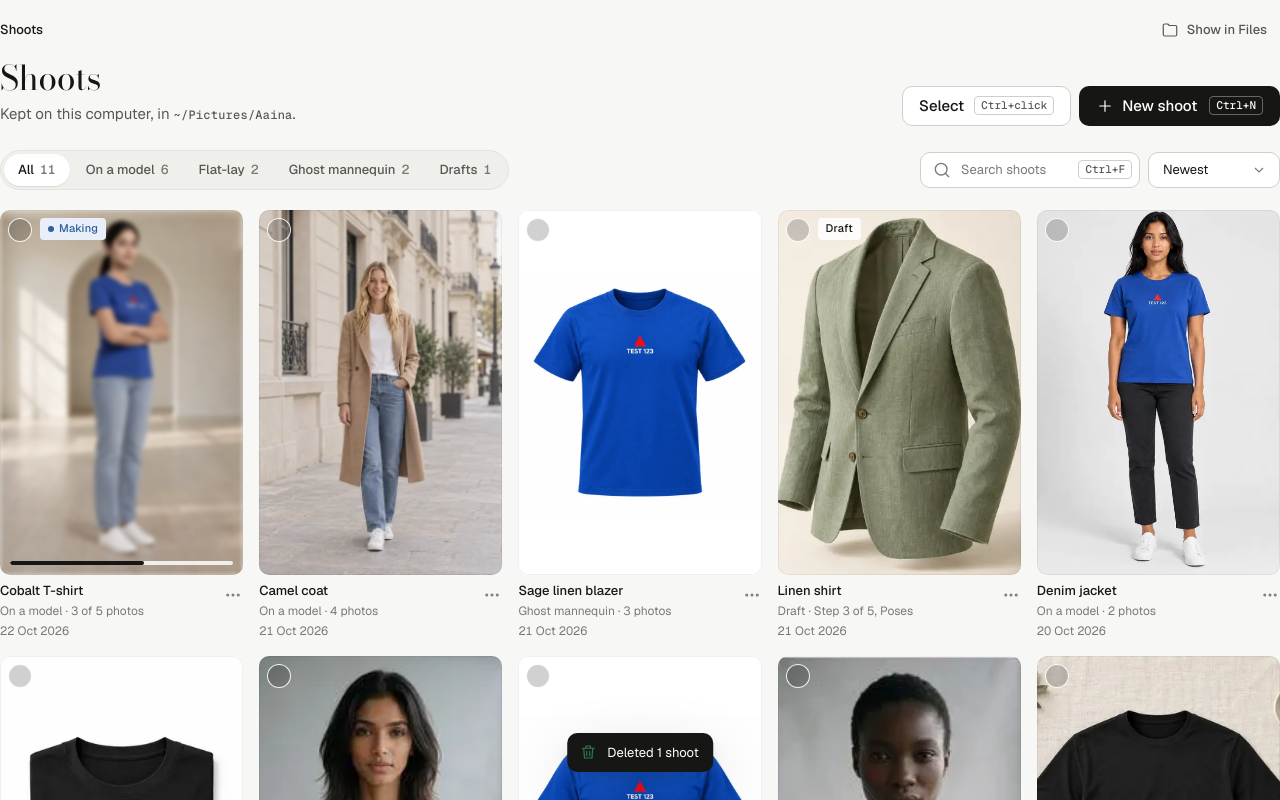
Test: Shoots › selecting several and pressing Delete asks once for all of them
The image size is (1280, 800).
Expected: the text "Cobalt T-shirt" is shown, [0, 582, 83, 599]
Click the button "Select Ctrl+click": (987, 106) [902, 86, 1071, 126]
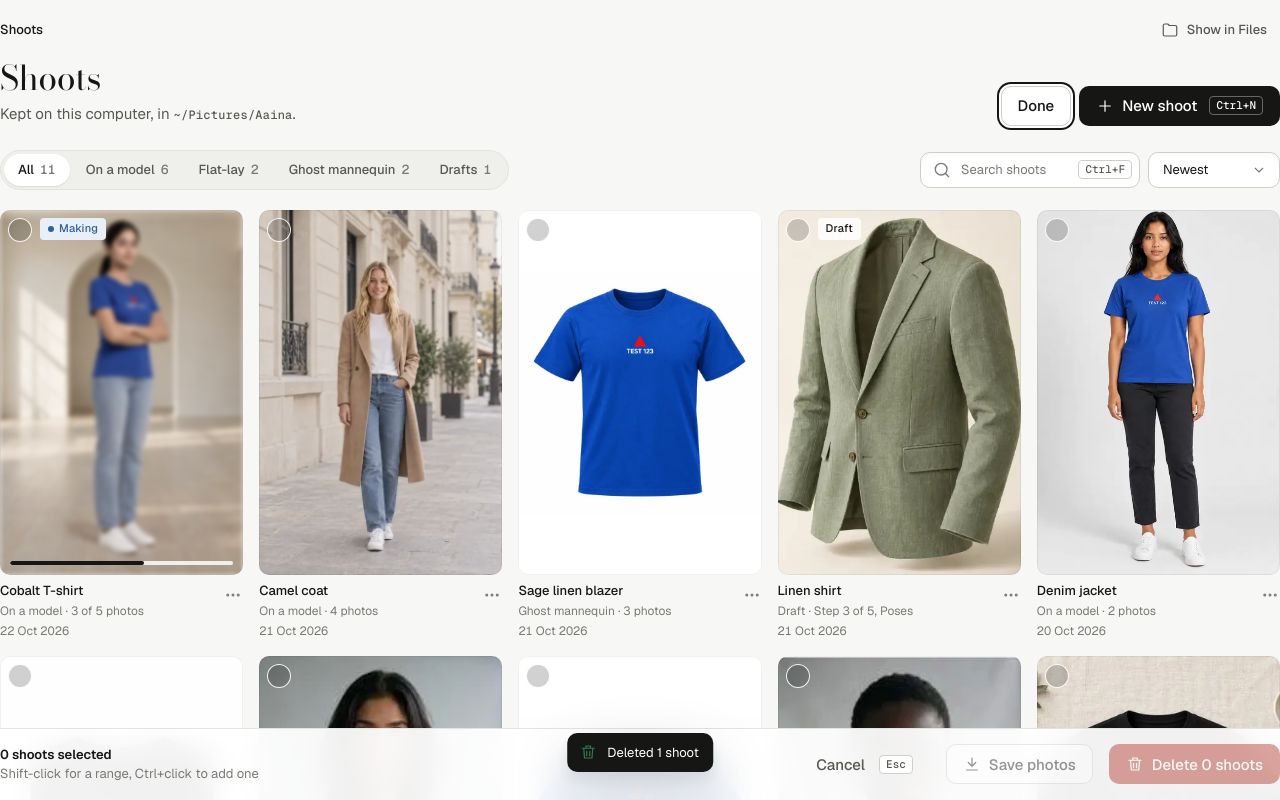
Click the button named "Select" next to "Making": (20, 230) [8, 218, 32, 242]
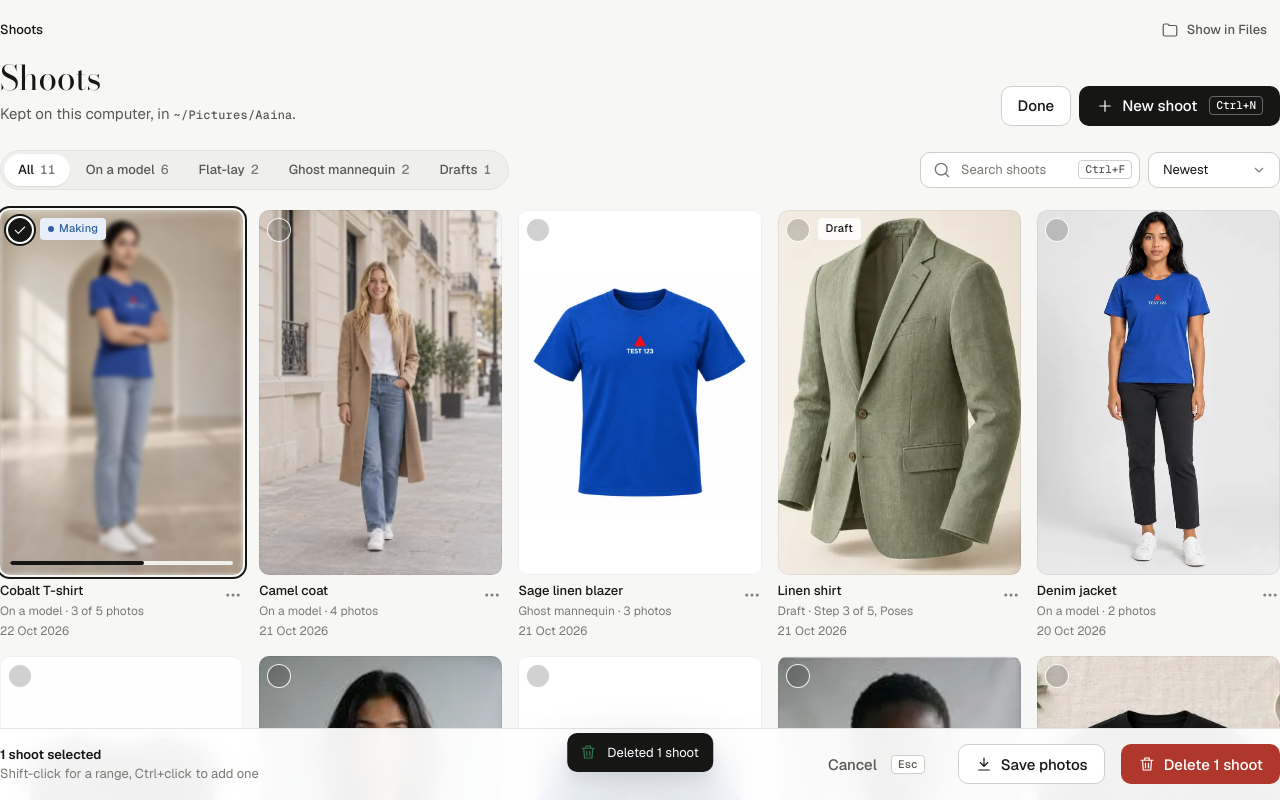
Click the 1st button named "Select": (279, 230) [267, 218, 291, 242]
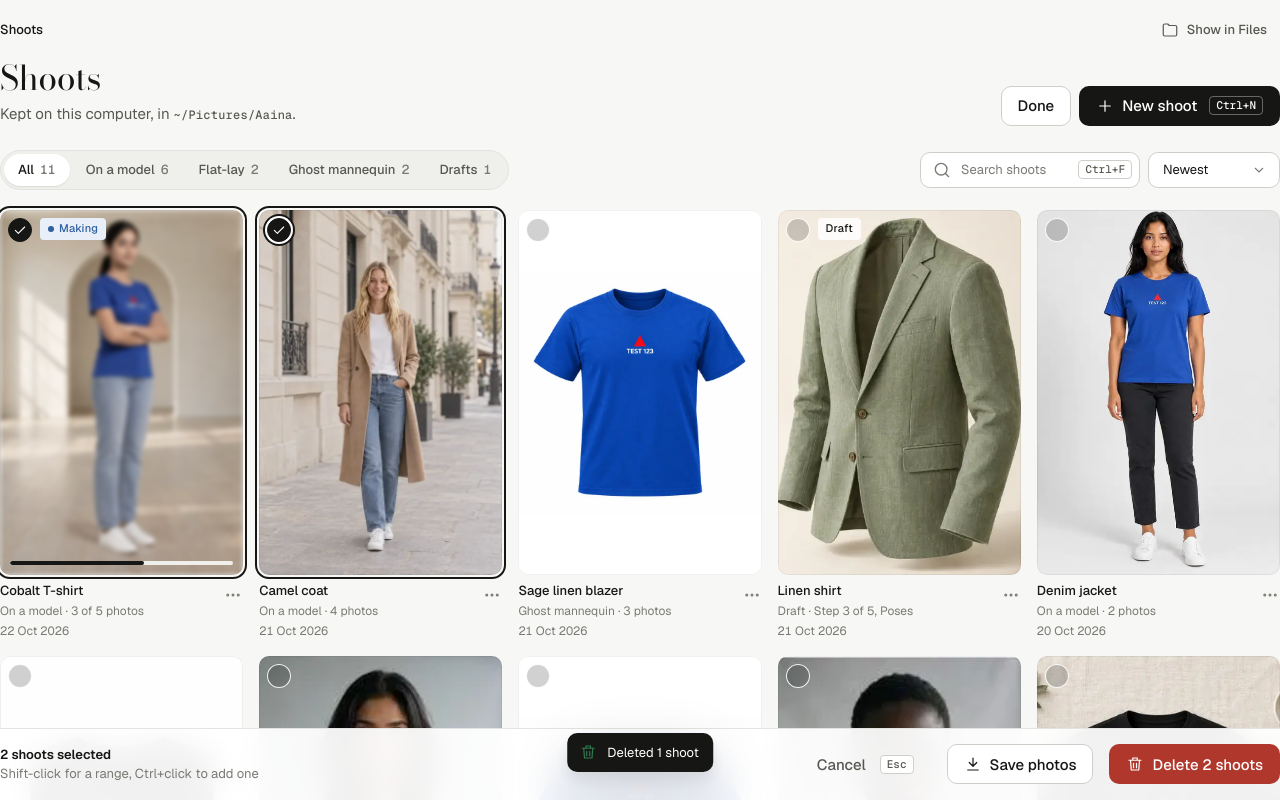
Expected: the text "2 shoots selected" is shown, [0, 746, 111, 763]
Click the button "Delete 2 shoots": (1195, 764) [1110, 744, 1279, 784]
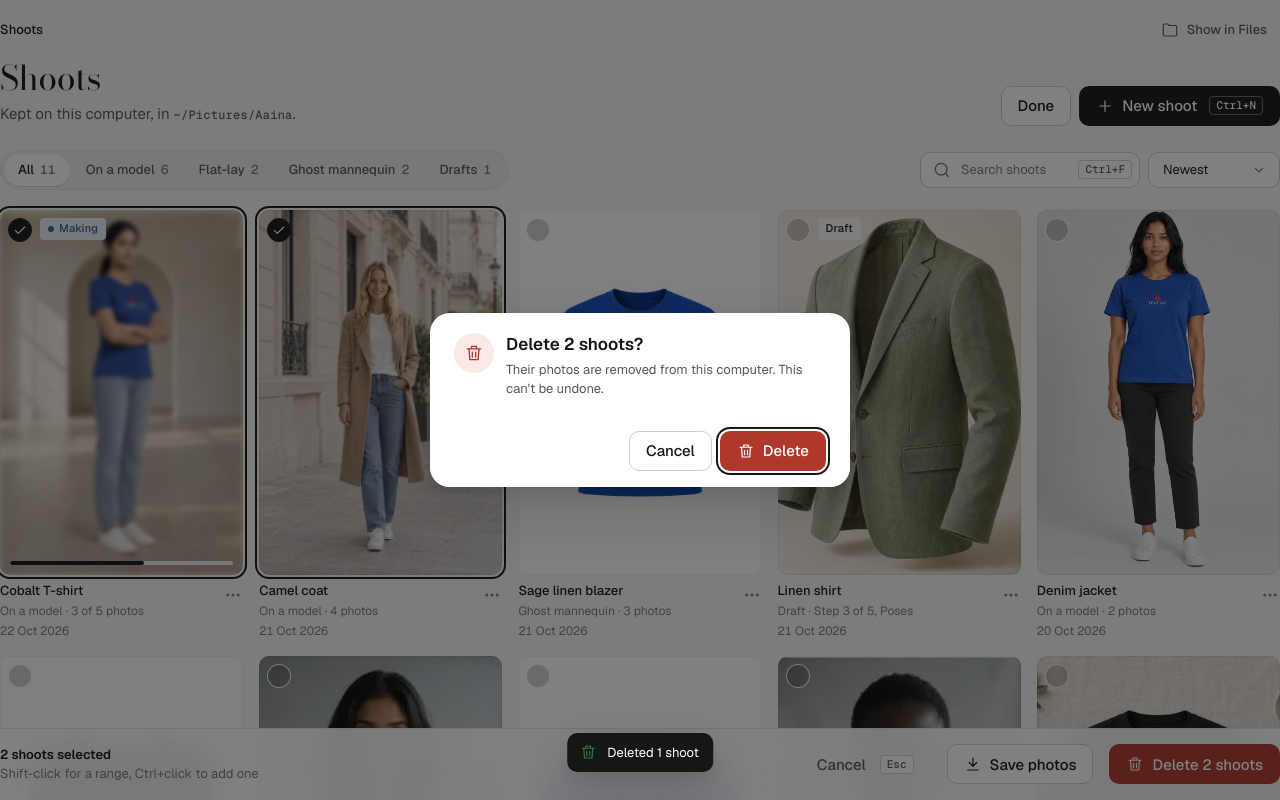
Expected: the dialog "Delete 2 shoots?" is shown, [430, 314, 850, 487]
Press Escape
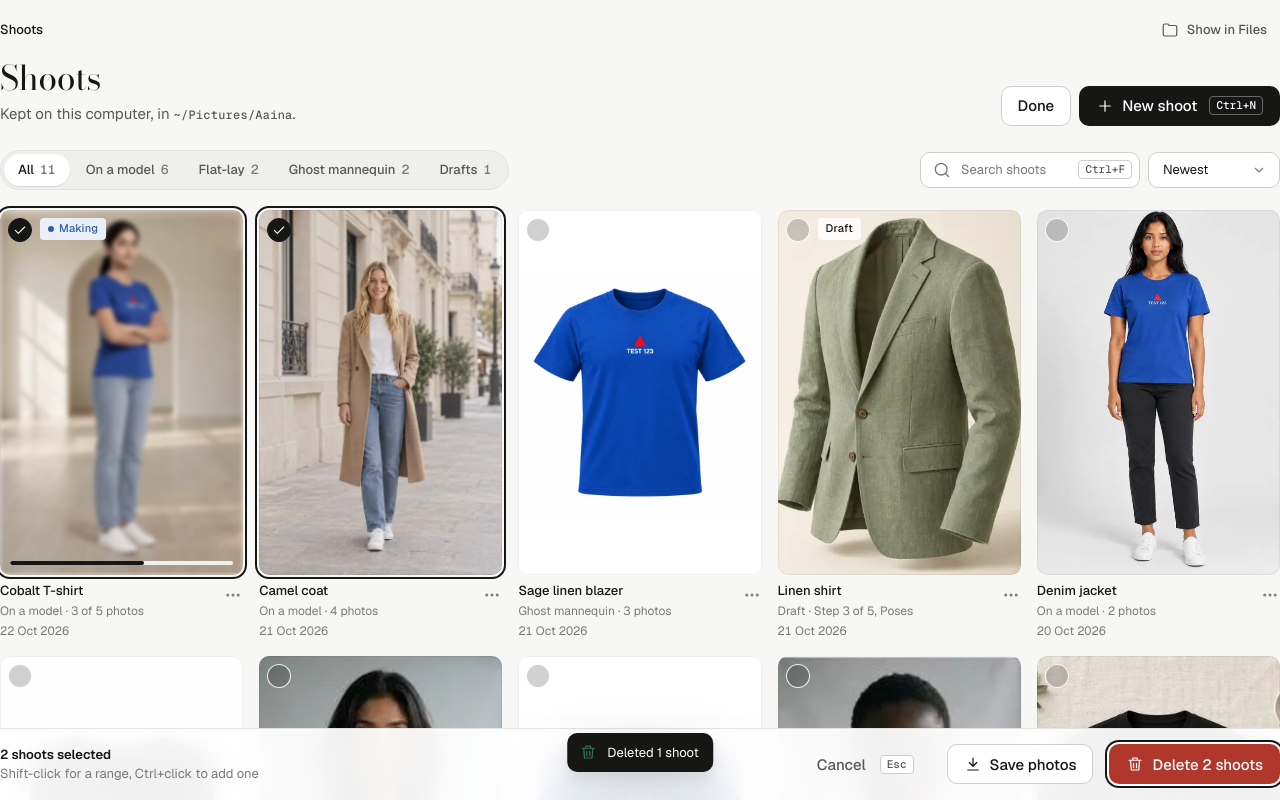
Expected: the dialog is gone
Click the button "Cancel Esc": (865, 764) [800, 744, 930, 784]
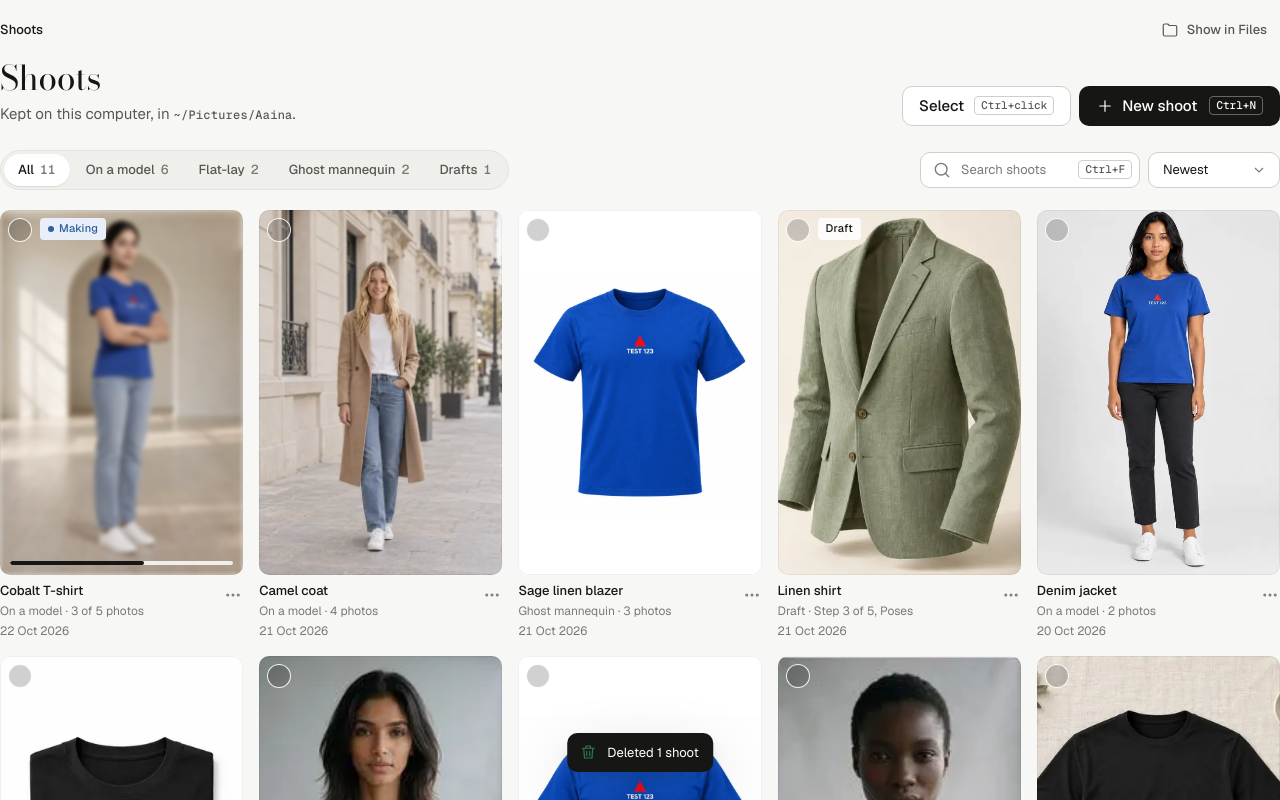
Expected: the text "shoots selected" is gone
